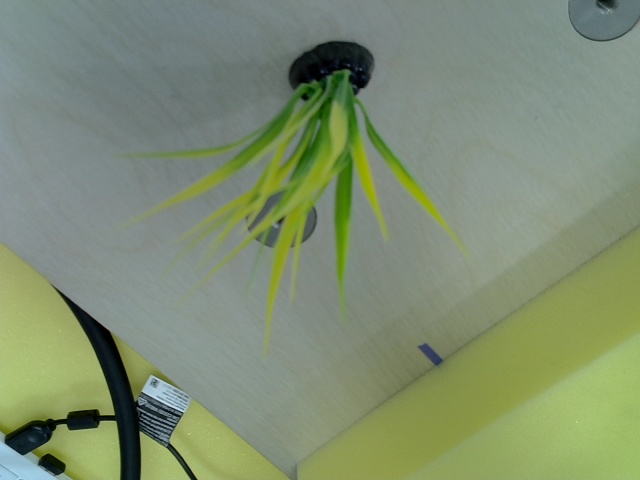해바라기새싹: (141, 44, 467, 328)
